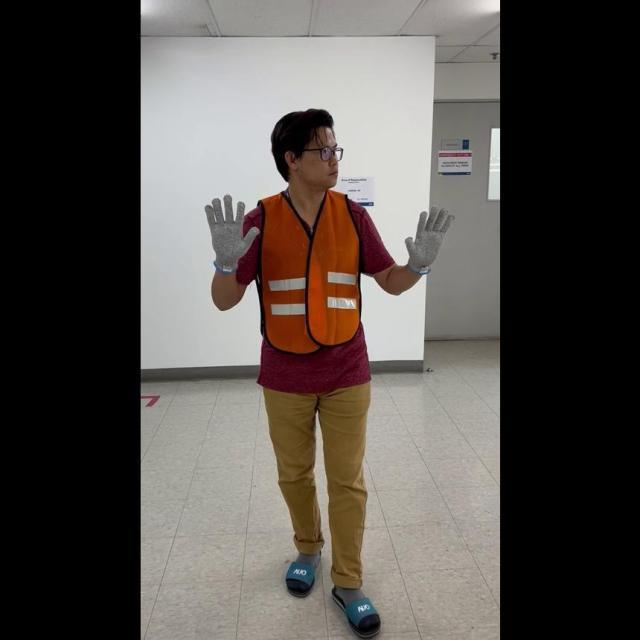gloved_hand: (203, 189, 258, 272), (400, 202, 451, 272)
